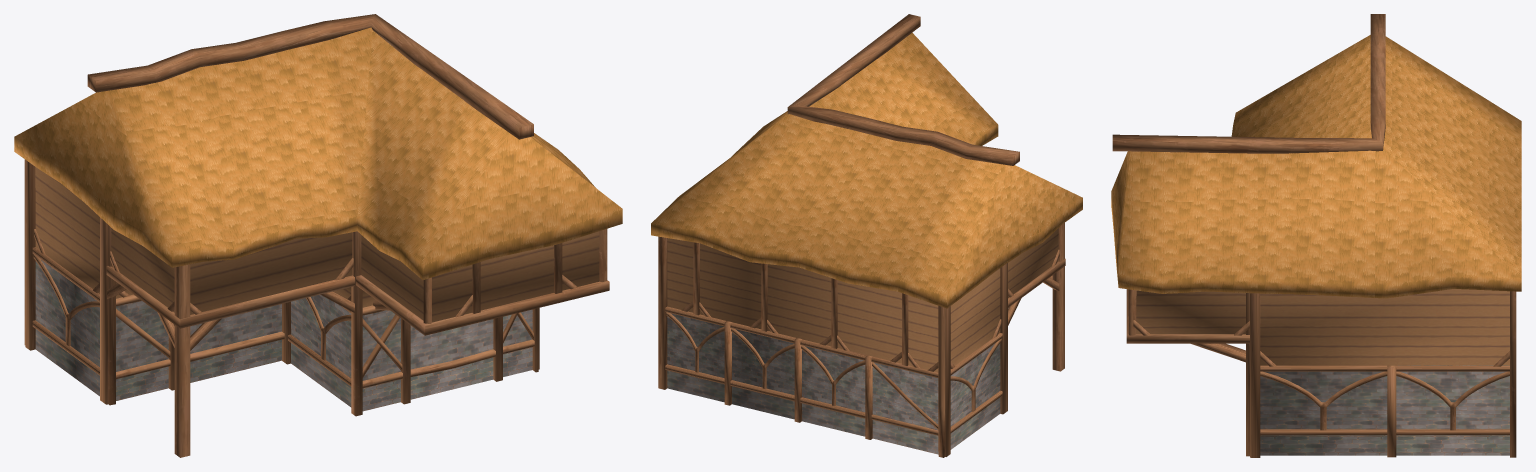
Rendered from Building 10_1.fbx.
The picture shows the model from 3 angles, left to right: view 1: azimuth 30°, elevation 25°; view 2: azimuth 150°, elevation 25°; view 3: azimuth 270°, elevation 25°; orthographic projection. The views are drawn at different scales.
Visible parts, largest first — view 1: Building 10_1; view 2: Building 10_1; view 3: Building 10_1.
Boxes of the visible parts, x1,y1,x2,y2 form: Building 10_1: [14, 14, 622, 457]; Building 10_1: [651, 14, 1082, 457]; Building 10_1: [1111, 14, 1521, 457].
Bounding box in the file's own units: 11.77 × 9.22 × 12.02.
